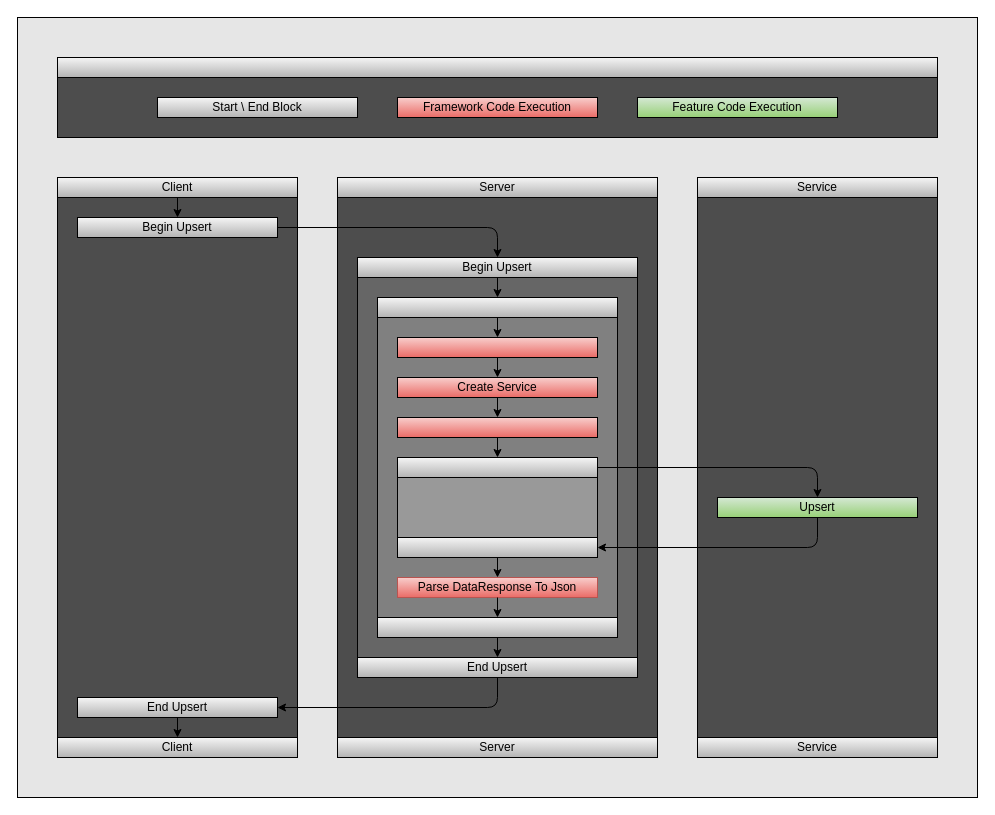
Image size: 995x815. Some labels were removed from this diagram. The shapes that lost their labels are listed below. From the top down, each one's centre as x and y in pixels, then its label:
At (x=497, y=67): "Legend".
At (x=497, y=307): "Begin Invoke Service".
At (x=497, y=347): "Create Environment".
At (x=497, y=427): "Parse Json To DataRequest".
At (x=497, y=467): "Begin Invoke Service Upsert".
At (x=497, y=547): "End Invoke Service Upsert".
At (x=497, y=627): "End Invoke Service".
